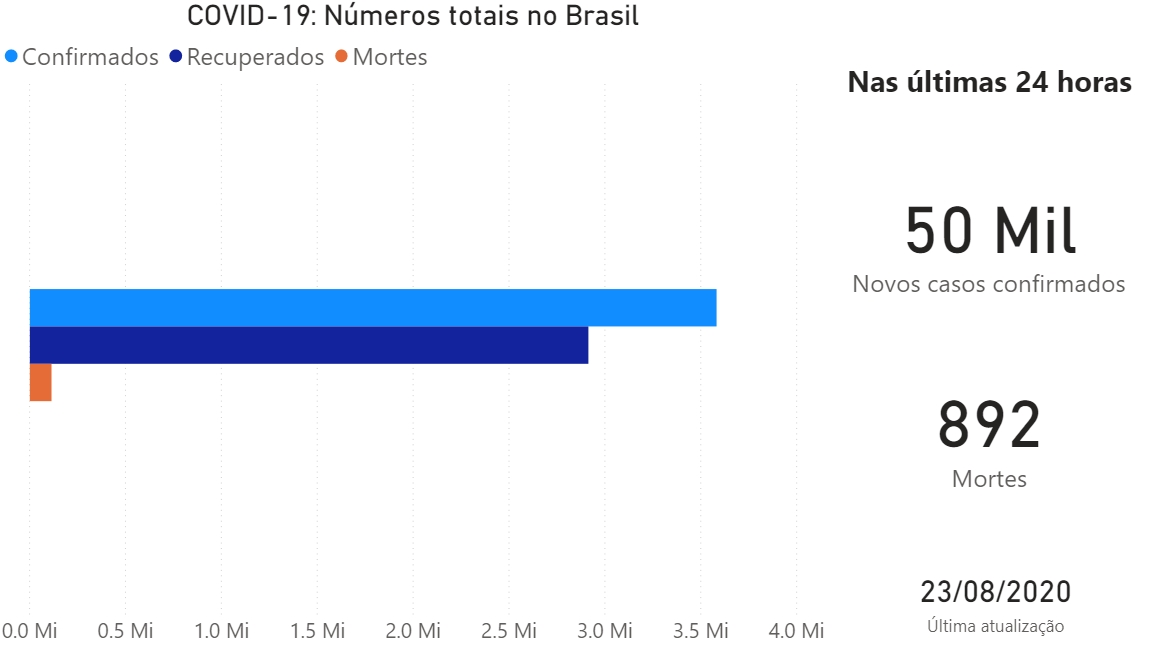

This screenshot's page, from the dashboard's own definition file:
{"tool":"powerbi","page":{"name":"Dashboard","canvas":[1280,720],"ordinal":0},"visuals":[{"type":"card","fields":{"Values":["Sum(brazil_data.NewConfirmed)"]},"box":[914.7,192.3,350.2,137.3],"z":0},{"type":"card","fields":{"Values":["Sum(brazil_data.NewDeaths)"]},"box":[918.8,401,343.3,147],"z":1000},{"type":"clusteredBarChart","title":"COVID-19: Números totais no Brasil","fields":{"Y":["Sum(brazil_data.TotalConfirmed)","Sum(brazil_data.TotalRecovered)","Sum(brazil_data.TotalDeaths)"]},"box":[0,0,914.3,720.2],"z":2000},{"type":"textbox","box":[925.7,63.2,329.6,98.9],"z":3000},{"type":"card","fields":{"Values":["Min(brazil_data.Date)"]},"box":[925.5,601.5,343.3,118.7],"z":4000}]}

Visuals, with their boxes in screenshot pixels (x1, y1, x2, y2), scaled from the page's 1280x720 canvas onto the 1154x650 screenshot:
card - Sum(brazil_data.NewConfirmed): [x1=825, y1=174, x2=1140, y2=298]
card - Sum(brazil_data.NewDeaths): [x1=828, y1=362, x2=1138, y2=495]
"COVID-19: Números totais no Brasil" clusteredBarChart: [x1=0, y1=0, x2=824, y2=649]
textbox: [x1=835, y1=57, x2=1132, y2=146]
card - Min(brazil_data.Date): [x1=834, y1=543, x2=1144, y2=649]
